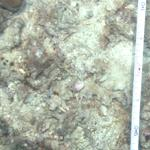dead: (1, 5, 149, 146)
